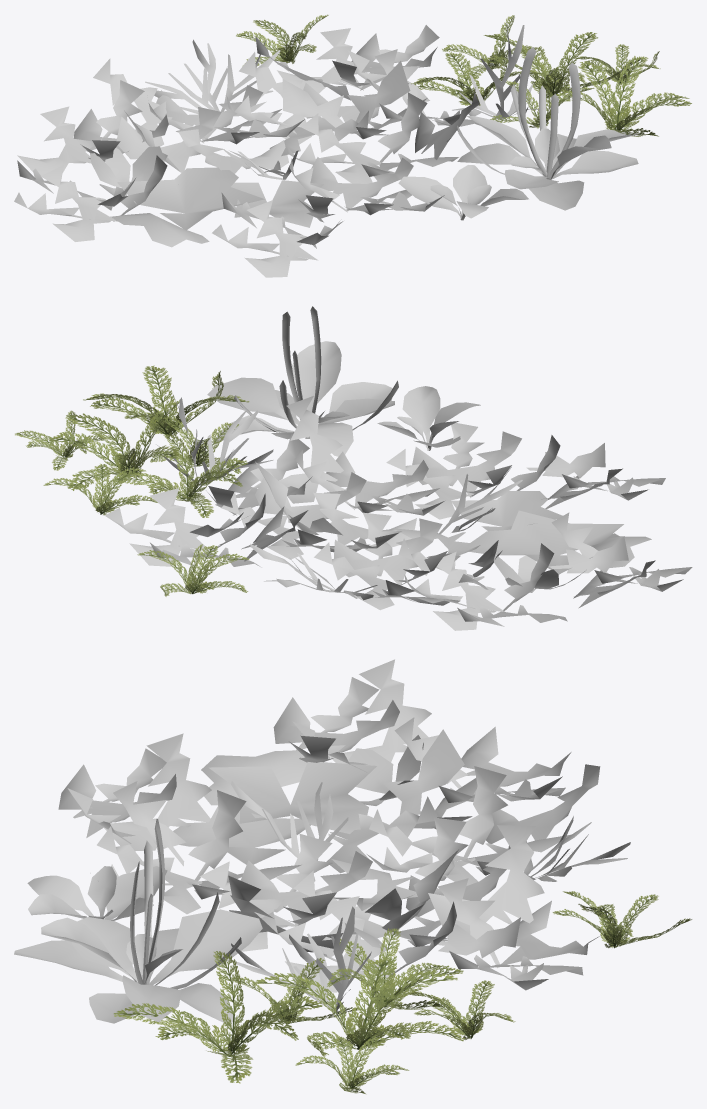
The model's file is SM_Plant_Grass_Field_Assemble_03.gltf.
3 renders of one model, top to bottom at view 1: azimuth 30°, elevation 25°; view 2: azimuth 150°, elevation 25°; view 3: azimuth 270°, elevation 25°, orthographic. The views are drawn at different scales.
Visible parts, largest first — view 1: SM_Plant_Grass_Field_Assemble_03; view 2: SM_Plant_Grass_Field_Assemble_03; view 3: SM_Plant_Grass_Field_Assemble_03.
Boxes of the visible parts, x1=… form: SM_Plant_Grass_Field_Assemble_03: x1=14, y1=14, x2=691, y2=277; SM_Plant_Grass_Field_Assemble_03: x1=15, y1=306, x2=692, y2=630; SM_Plant_Grass_Field_Assemble_03: x1=14, y1=659, x2=692, y2=1093.
Bounding box in the file's own units: 1.45 × 0.2928 × 1.04.
